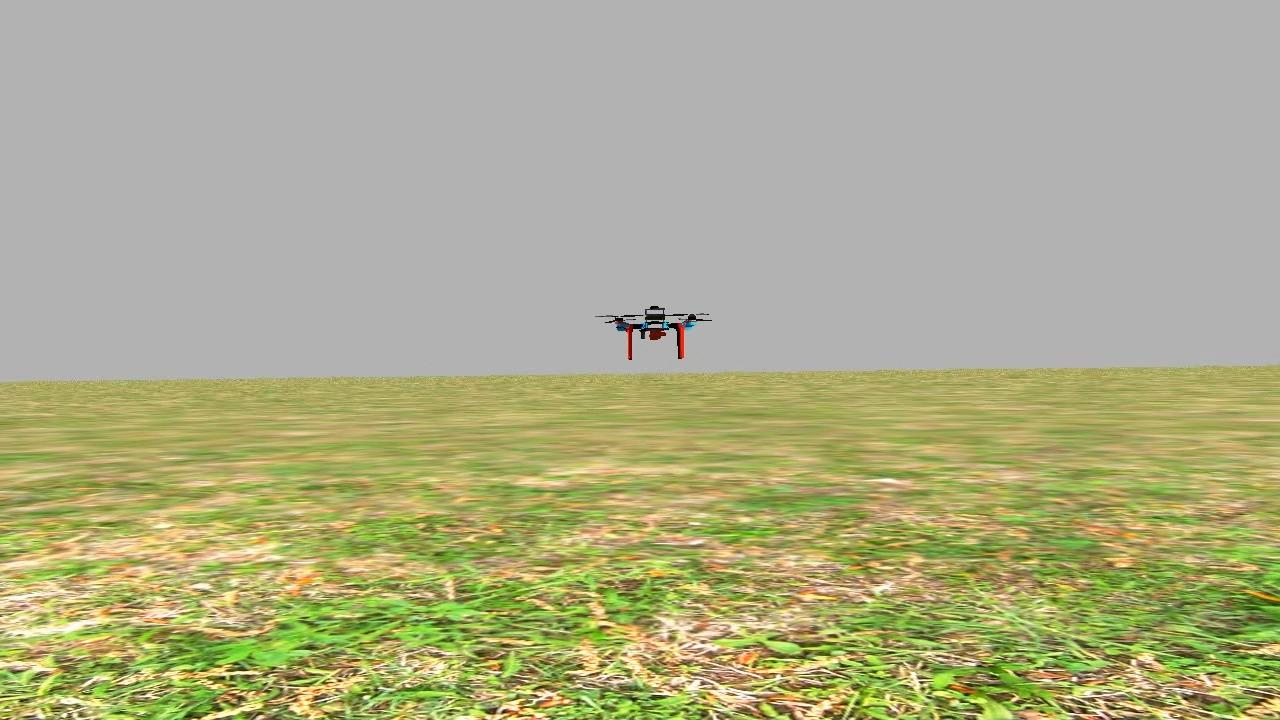UAV: (600, 302, 706, 368)
